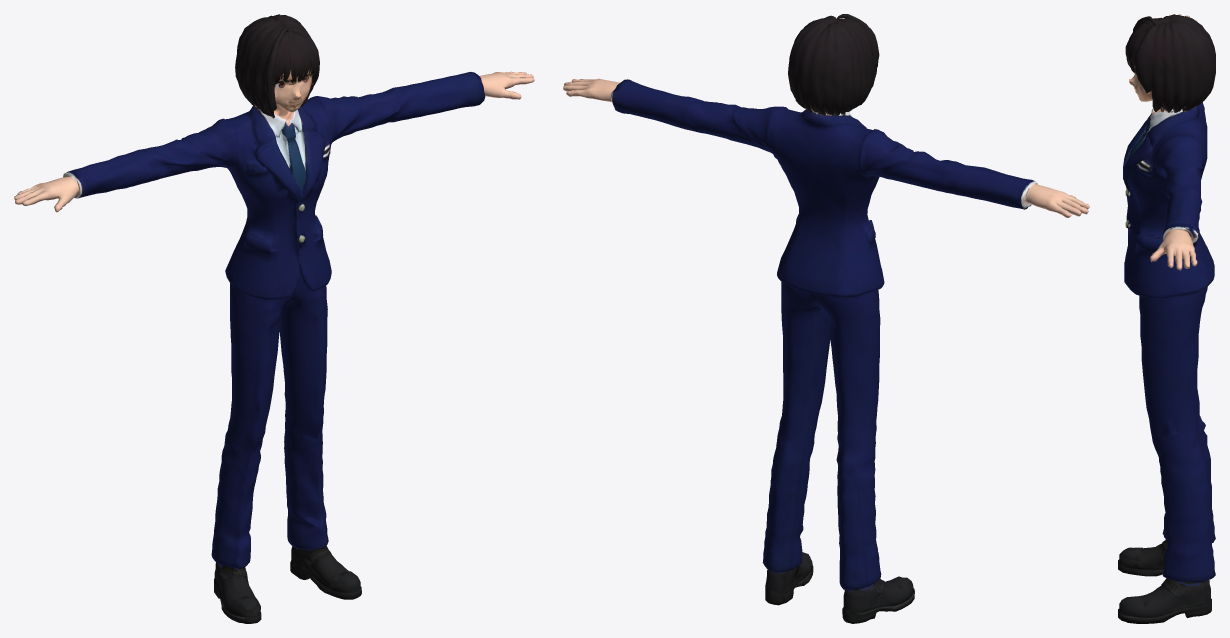
Rendered from tripo_h31_webtoon_protagonist_character.glb.
The picture shows the model from 3 angles, left to right: view 1: azimuth 30°, elevation 25°; view 2: azimuth 150°, elevation 25°; view 3: azimuth 270°, elevation 25°; orthographic projection.
Visible parts, largest first — view 1: tripo_node_63f68637-137c-47a3-8998-7b05a0405708; view 2: tripo_node_63f68637-137c-47a3-8998-7b05a0405708; view 3: tripo_node_63f68637-137c-47a3-8998-7b05a0405708.
Part boxes in pixels (x1,y1,x2,y2): tripo_node_63f68637-137c-47a3-8998-7b05a0405708: (14, 14, 534, 623); tripo_node_63f68637-137c-47a3-8998-7b05a0405708: (563, 14, 1089, 623); tripo_node_63f68637-137c-47a3-8998-7b05a0405708: (1118, 14, 1215, 623).
Size of the model in its own units: 0.9264 by 0.9761 by 0.1509.
1 material, 1 textured.
